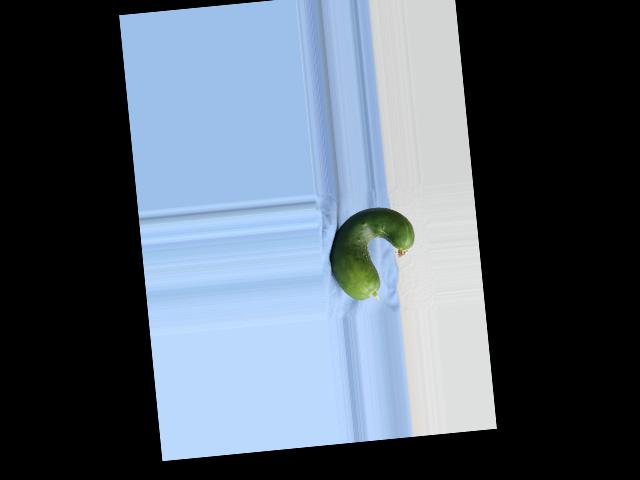cucumber: (325, 204, 420, 303)
